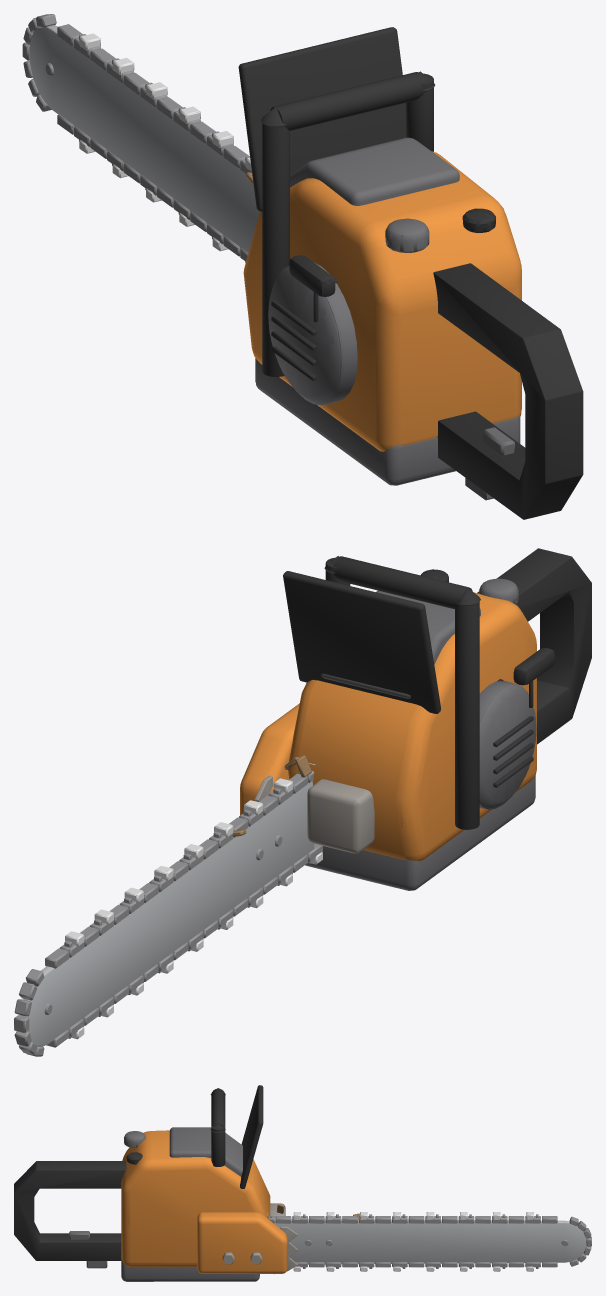
The model's file is motosee.glb.
The picture shows the model from 3 angles, top to bottom: view 1: azimuth 30°, elevation 25°; view 2: azimuth 150°, elevation 25°; view 3: azimuth 270°, elevation 25°; orthographic projection. The views are drawn at different scales.
Parts seen in each view (by area): view 1: body, far, chain; view 2: body, chain, far; view 3: body, chain, far.
Part boxes in pixels (x1,y1,x2,y2): body: [29, 25, 583, 519]; far: [23, 14, 583, 499]; chain: [22, 14, 251, 262]; body: [21, 548, 591, 1046]; chain: [14, 763, 322, 1056]; far: [14, 558, 574, 1055]; body: [14, 1085, 586, 1281]; chain: [267, 1212, 591, 1271]; far: [14, 1085, 590, 1281].
Size of the model in its own units: 0.19 by 0.2605 by 0.8336.
8 materials, 1 textured.
